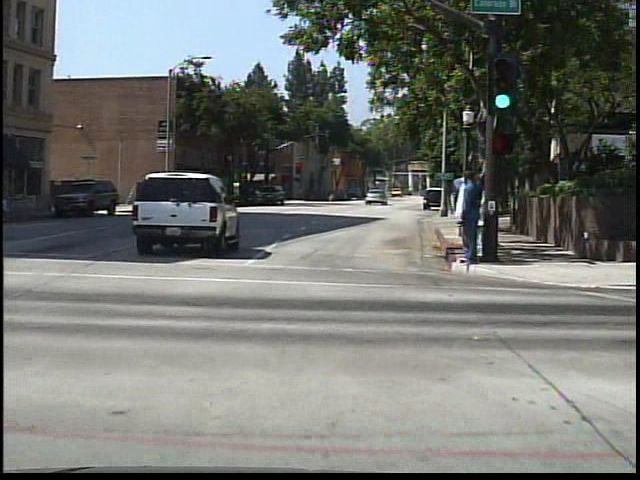person: (455, 170, 483, 268), (448, 174, 475, 268), (324, 187, 335, 203)
